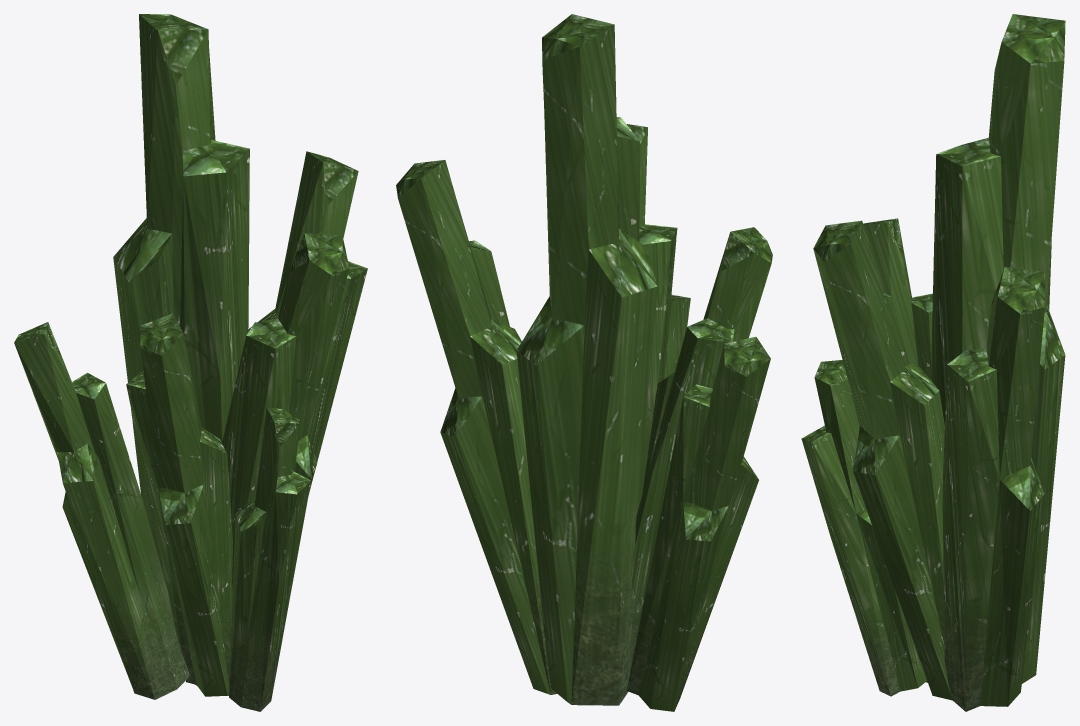
The model's file is crystal1.fbx.
3 views of the same model, side by side, from view 1: azimuth 30°, elevation 25°; view 2: azimuth 150°, elevation 25°; view 3: azimuth 270°, elevation 25° (orthographic). The views are drawn at different scales.
Parts seen in each view (by area): view 1: crystal1; view 2: crystal1; view 3: crystal1.
Boxes of the visible parts, x1,y1,x2,y2 form: crystal1: (14, 14, 367, 711); crystal1: (396, 14, 772, 711); crystal1: (801, 14, 1065, 711).
Bounding box in the file's own units: 3.38 × 6.02 × 2.19.
